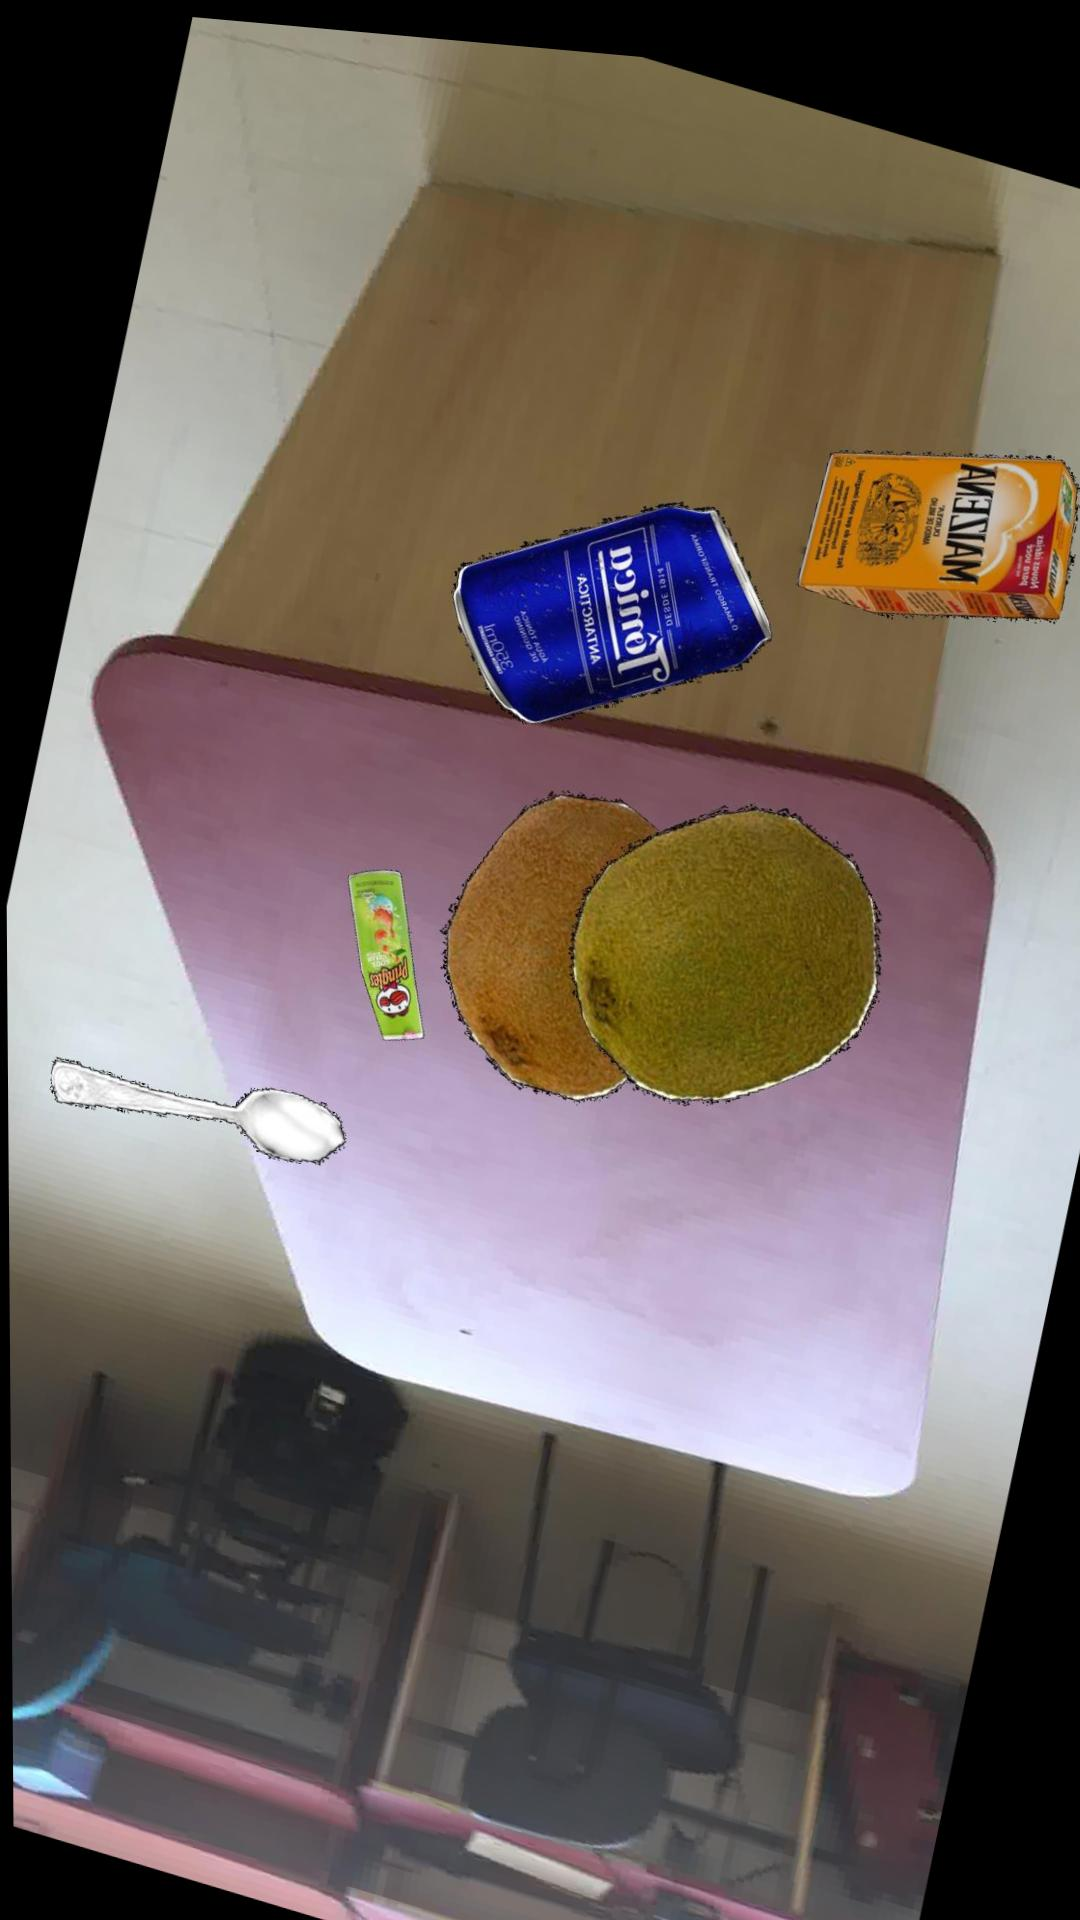kiwi: (568, 794, 881, 1094), (439, 785, 661, 1094)
pringles: (347, 864, 423, 1036)
spoon: (50, 1061, 344, 1162)
tonic: (452, 491, 772, 716)
